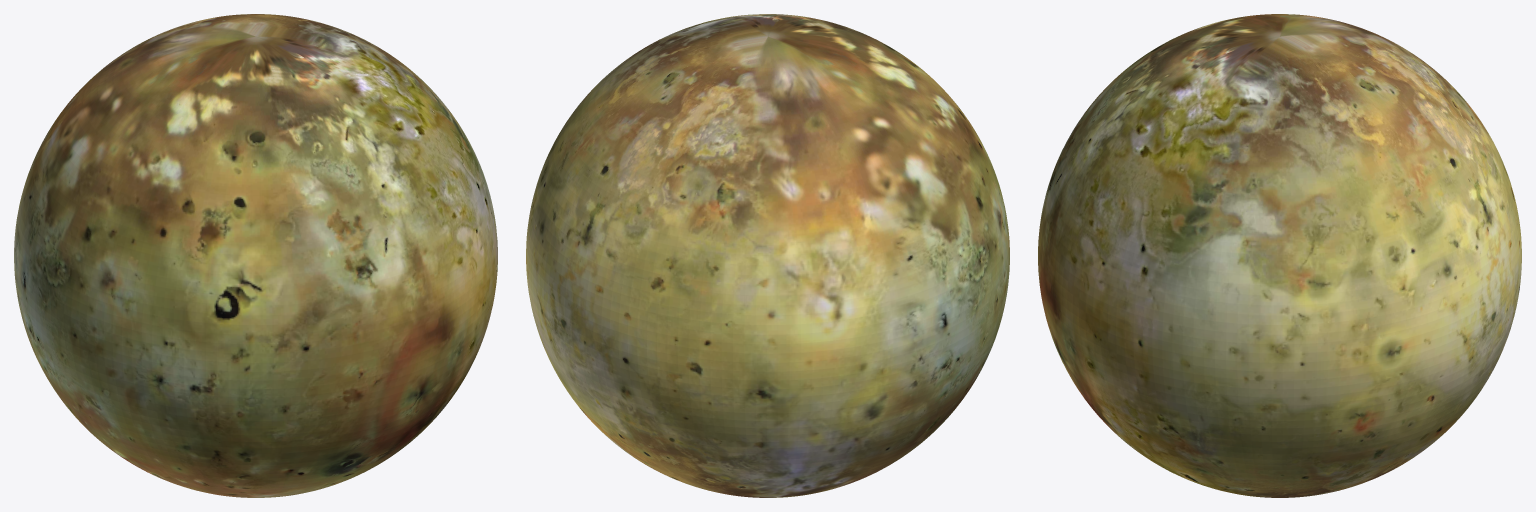
Rendered from io_jupiters_moon.glb.
3 views of the same model, side by side, from view 1: azimuth 30°, elevation 25°; view 2: azimuth 150°, elevation 25°; view 3: azimuth 270°, elevation 25° (orthographic).
Parts seen in each view (by area): view 1: Sphere; view 2: Sphere; view 3: Sphere.
Boxes of the visible parts, x1,y1,x2,y2 form: Sphere: [14, 14, 497, 497]; Sphere: [526, 14, 1009, 497]; Sphere: [1038, 14, 1521, 497].
Bounding box in the file's own units: 2 × 2 × 2.
Materials: 1 (1 with a texture image).
